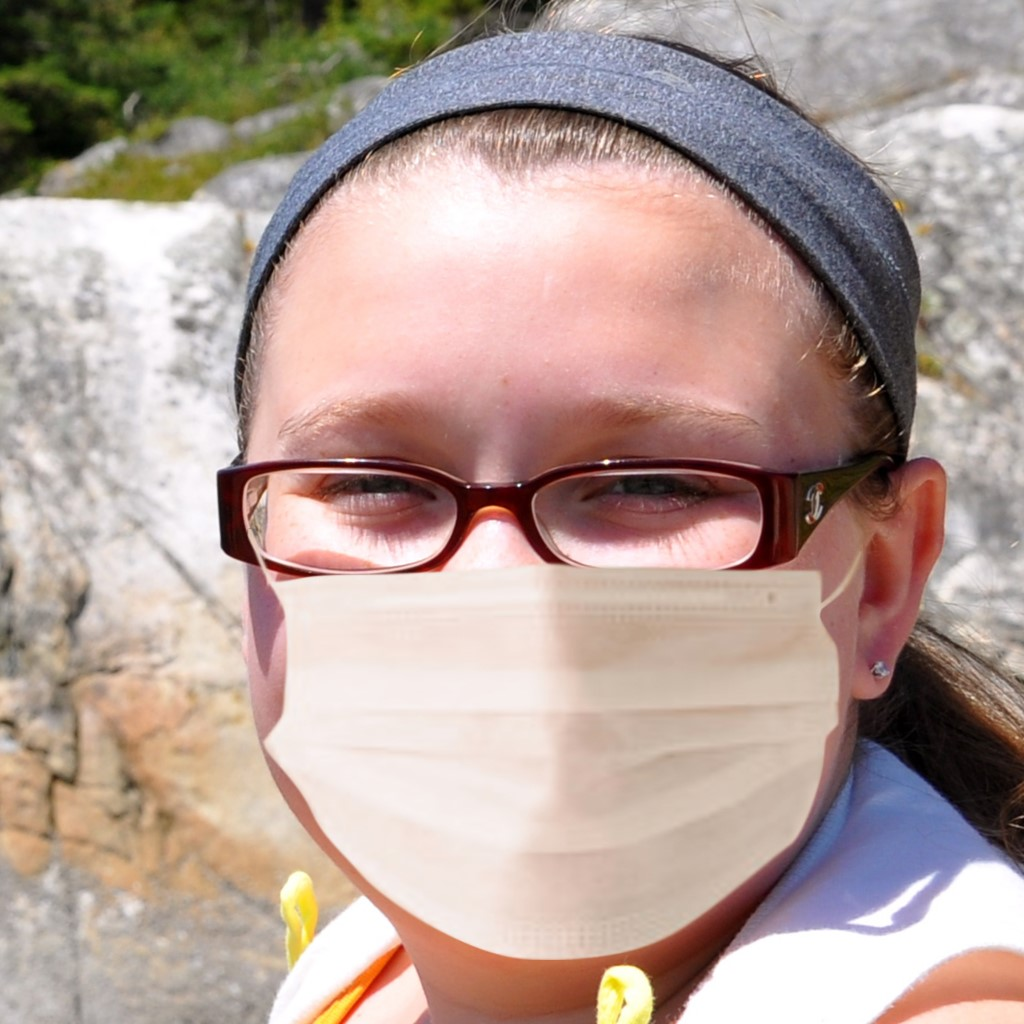con_mascara: (225, 80, 921, 948)
